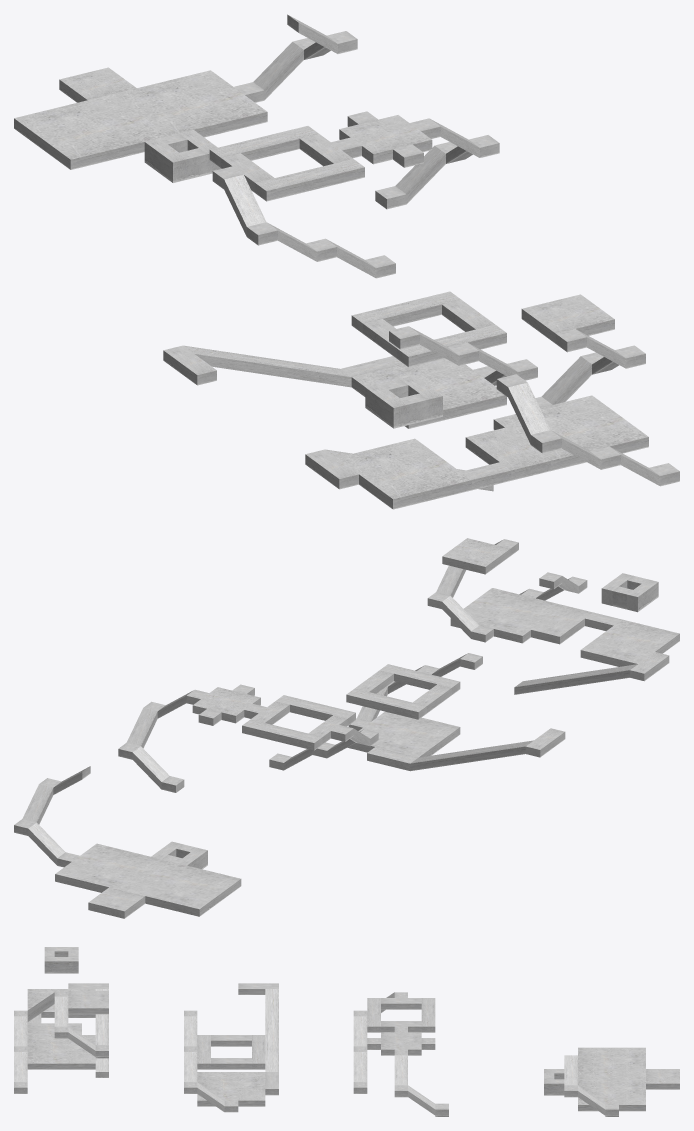
File: floor.fbx
The picture shows the model from 3 angles, top to bottom: view 1: azimuth 30°, elevation 25°; view 2: azimuth 150°, elevation 25°; view 3: azimuth 270°, elevation 25°; orthographic projection. The views are drawn at different scales.
Parts seen in each view (by area): view 1: pCube52, pCube51, pCube44, pCube21, pCube43, pCube1, pCube17, pCube40, pCube41, polySurface1, polySurface8, pCube63 (+11 smaller); view 2: pCube52, pCube51, pCube43, pCube44, pCube1, pCube17, pCube21, polySurface1, polySurface8, pCube63, pCube2, pCube41 (+12 smaller); view 3: pCube1, pCube17, pCube51, pCube52, pCube43, pCube44, pCube40, pCube41, pCube27, pCube24, polySurface8, polySurface1 (+13 smaller).
Part boxes in pixels (<box>): pCube52: <box>14,94,168,169</box>; pCube51: <box>112,70,267,137</box>; pCube44: <box>209,126,364,201</box>; pCube21: <box>336,438,471,509</box>; pCube43: <box>351,291,506,367</box>; pCube1: <box>493,395,648,470</box>; pCube17: <box>351,358,506,428</box>; pCube40: <box>496,374,679,486</box>; pCube41: <box>212,166,395,278</box>; polySurface1: <box>375,119,499,209</box>; polySurface8: <box>234,14,357,102</box>; pCube63: <box>365,375,442,428</box>; pCube52: <box>128,861,241,916</box>; pCube51: <box>55,843,168,892</box>; pCube43: <box>346,664,460,719</box>; pCube44: <box>242,695,355,750</box>; pCube1: <box>450,588,563,643</box>; pCube17: <box>347,711,460,757</box>; pCube21: <box>580,619,679,666</box>; polySurface1: <box>118,690,193,792</box>; polySurface8: <box>14,766,90,867</box>; pCube63: <box>601,573,658,612</box>; pCube2: <box>442,538,510,574</box>; pCube41: <box>269,725,378,770</box>; pCube1: <box>27,1035,95,1069</box>; pCube17: <box>197,1072,265,1106</box>; pCube51: <box>578,1076,645,1111</box>; pCube52: <box>578,1047,645,1076</box>; pCube43: <box>197,1035,265,1069</box>; pCube44: <box>367,998,435,1032</box>; pCube40: <box>14,992,54,1093</box>; pCube41: <box>353,992,407,1093</box>; pCube27: <box>184,1010,197,1093</box>; pCube24: <box>265,989,278,1071</box>; polySurface8: <box>564,1055,618,1116</box>; polySurface1: <box>394,1055,448,1116</box>.
Bounding box in the file's own units: 88 × 32 × 196.
1 material, 1 textured.
